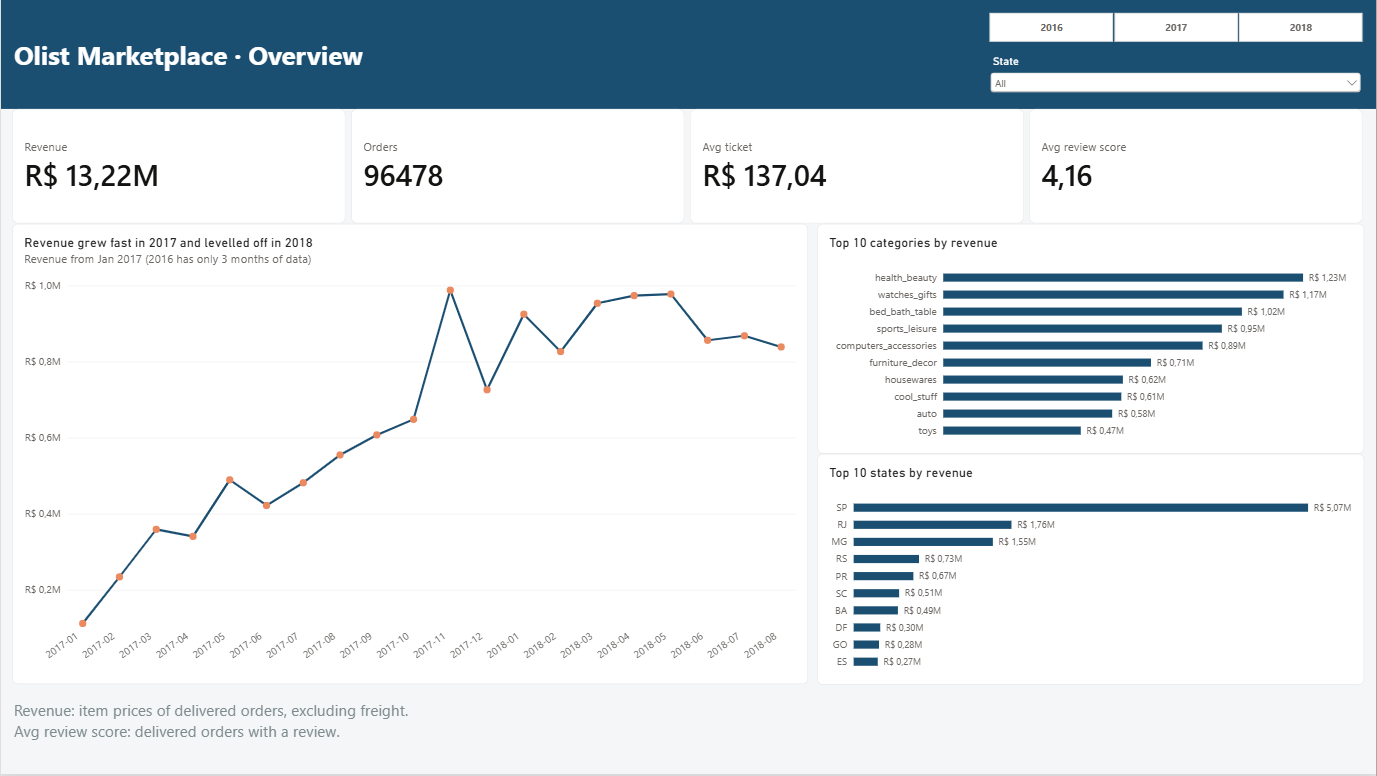

The page's visual inventory and layout, read from the dashboard file:
{"tool":"powerbi","page":{"name":"Overview","canvas":[1920,1080],"ordinal":0},"visuals":[{"type":"shape","box":[0,0,1920,152],"z":0},{"type":"slicer","fields":{"Values":["Calendar.Year"]},"box":[1358,16,560,44],"z":2000},{"type":"slicer","fields":{"Values":["customers.customer_state"]},"box":[1376,76,526,58],"z":3000},{"type":"cardVisual","fields":{"Data":["_Measure.Revenue","_Measure.N_Orders","_Measure.Avg_ticket","_Measure.Avg_review_score"]},"box":[16.6,152.3,1885.2,160.6],"z":4000},{"type":"lineChart","title":"Revenue grew fast in 2017 and levelled off in 2018","fields":{"Category":["Calendar.Month"],"Y":["_Measure.Revenue"]},"box":[16.6,312.8,1110.6,642.2],"z":5000},{"type":"clusteredBarChart","title":"Top 10 categories by revenue","fields":{"Category":["products.product_category_name_english"],"Y":["_Measure.Revenue"]},"box":[1138.8,312.8,763,321.1],"z":6000},{"type":"textbox","box":[0,955,1918.2,125.4],"z":6001},{"type":"clusteredBarChart","title":"Top 10 states by revenue","fields":{"Category":["customers.customer_state"],"Y":["_Measure.Revenue"]},"box":[1138.8,633.9,763,322.8],"z":6002}]}

Visuals, with their boxes in screenshot pixels (x1, y1, x2, y2), scaled from the page's 1920x1080 canvas onto the 1377x776 screenshot:
shape: 0,0,1376,109
slicer - Calendar.Year: 974,11,1376,43
slicer - customers.customer_state: 987,55,1364,96
cardVisual - _Measure.Revenue x _Measure.N_Orders: 12,109,1364,225
"Revenue grew fast in 2017 and levelled off in 2018" lineChart: 12,225,808,686
"Top 10 categories by revenue" clusteredBarChart: 817,225,1364,455
textbox: 0,686,1376,775
"Top 10 states by revenue" clusteredBarChart: 817,455,1364,687
